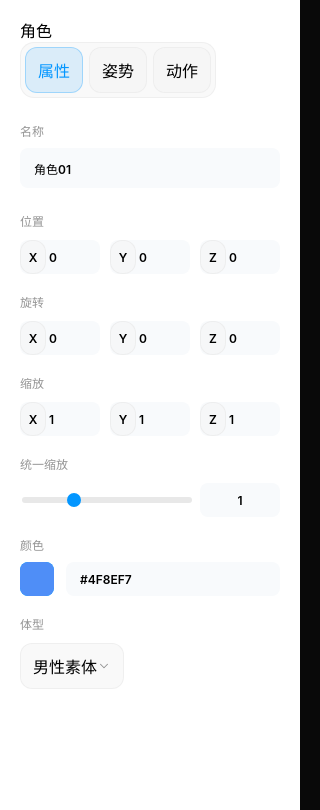
Test: adjusts axis values by dragging the gray XYZ prefix handles
Press the mouse on the button named "角色位置 X 拖动调整": (33, 257) [20,240,46,274]
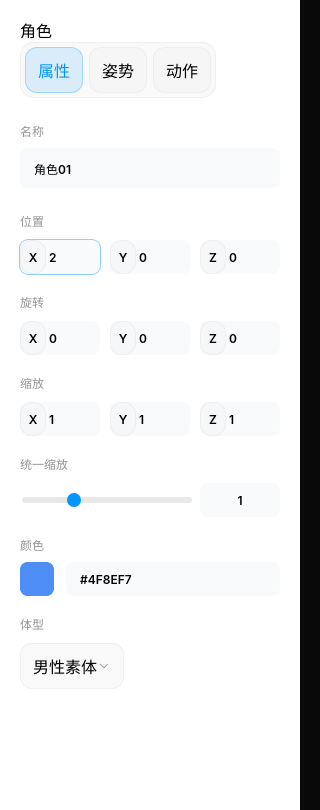
Check: the number field named "角色位置 X" holds "2", box [43,240,100,274]
